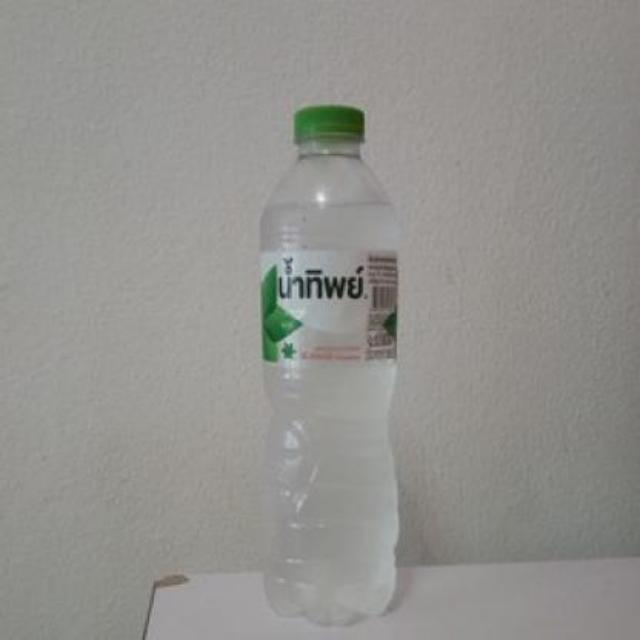plastic_bottle: (254, 93, 414, 624)
